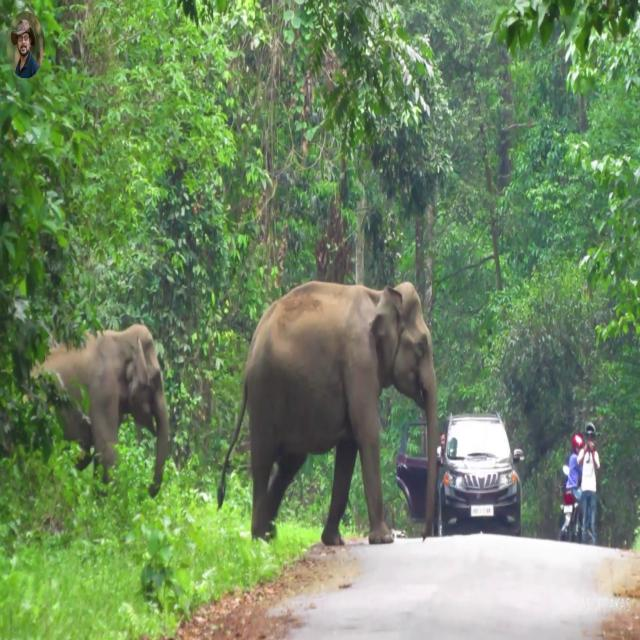Elephant: (216, 279, 439, 546), (27, 322, 170, 499)
person: (577, 422, 600, 545), (562, 433, 584, 542)
